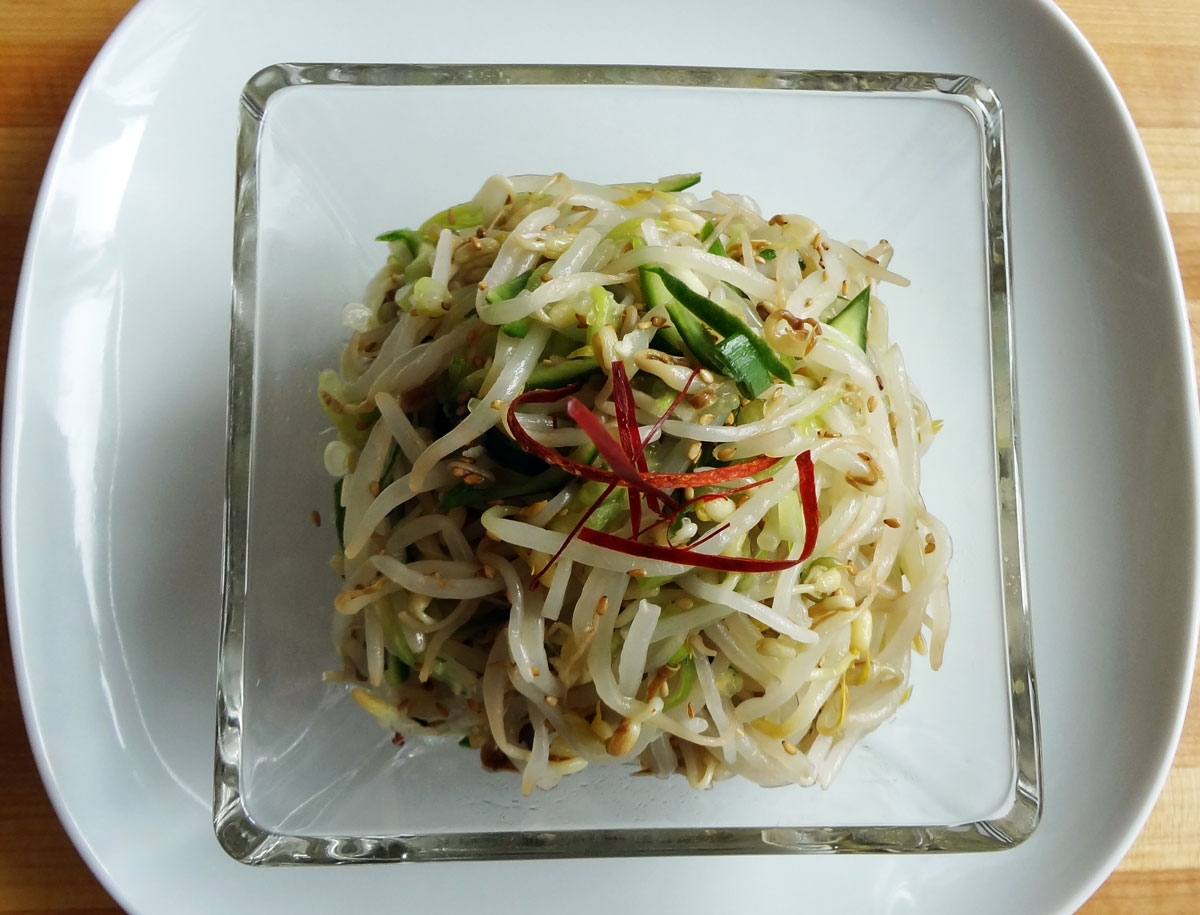mung_bean_sprouts: (326, 169, 943, 785)
